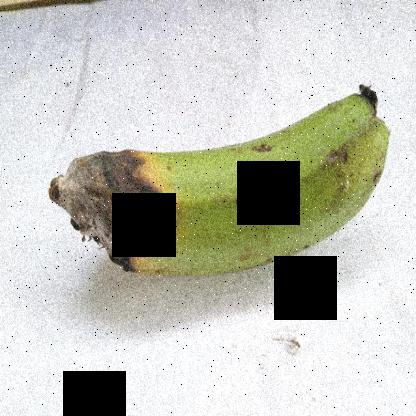rotten: (44, 142, 198, 288)
unripe: (176, 75, 399, 291)
